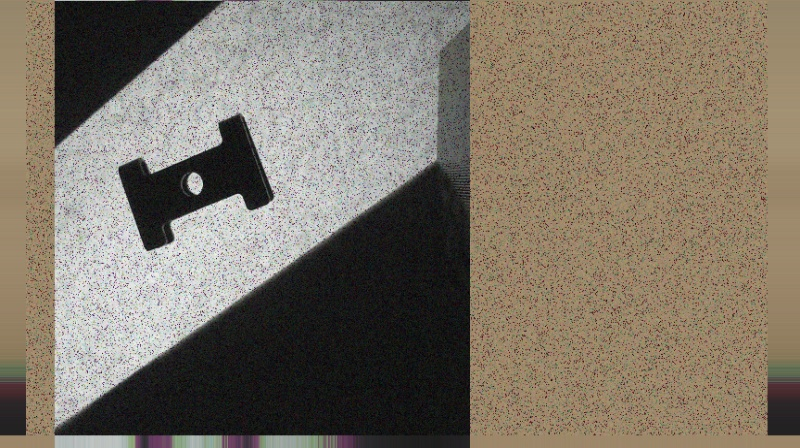O002: (115, 109, 277, 255)
